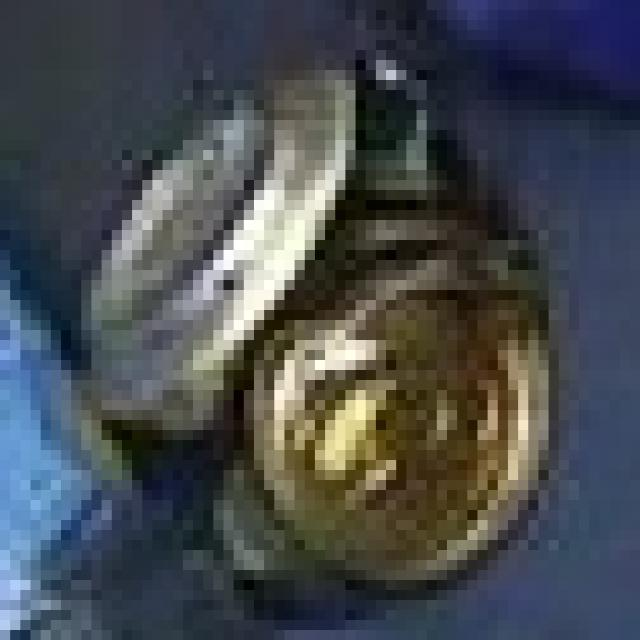litter: (37, 37, 604, 637)
